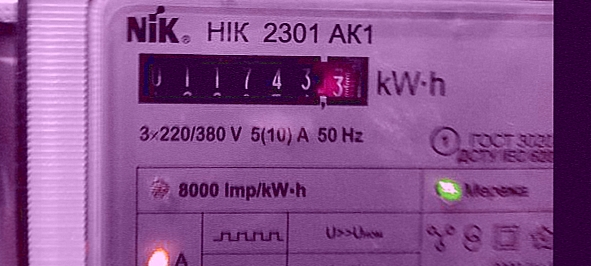0: (148, 61, 163, 89)
1: (209, 61, 222, 89), (180, 61, 191, 88)
3: (298, 65, 313, 92), (329, 74, 344, 99)
4: (268, 65, 283, 92)
7: (238, 61, 254, 89)
screen: (126, 42, 380, 117)
